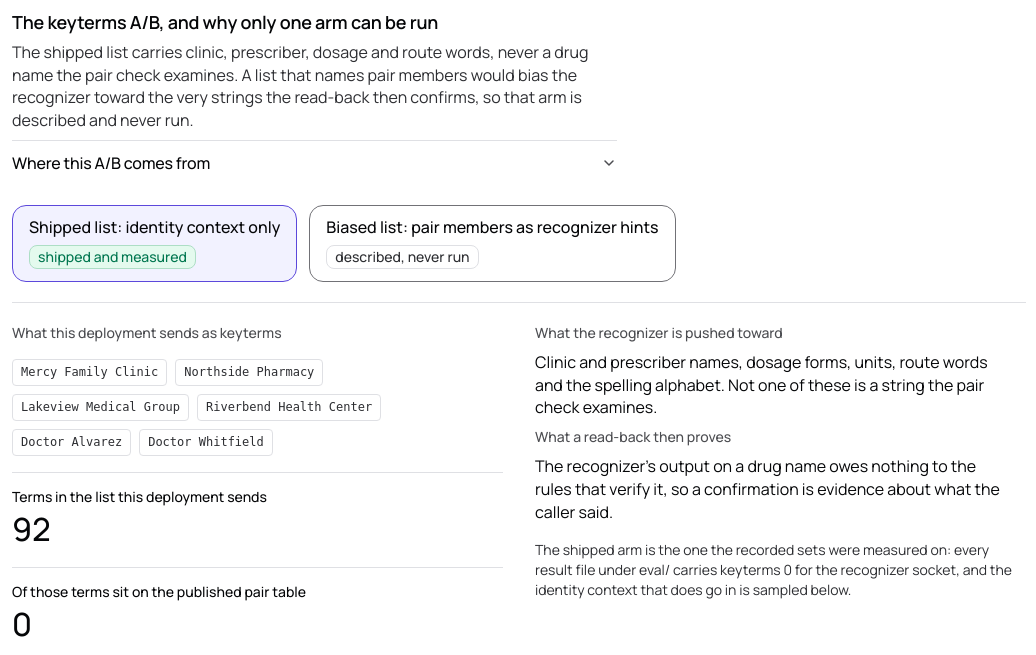
Test: what the page tells a reader › switches to the biased arm and states there it is never run
Step 1. Click the tab "Biased list" → (492, 227), box [309, 205, 676, 282]
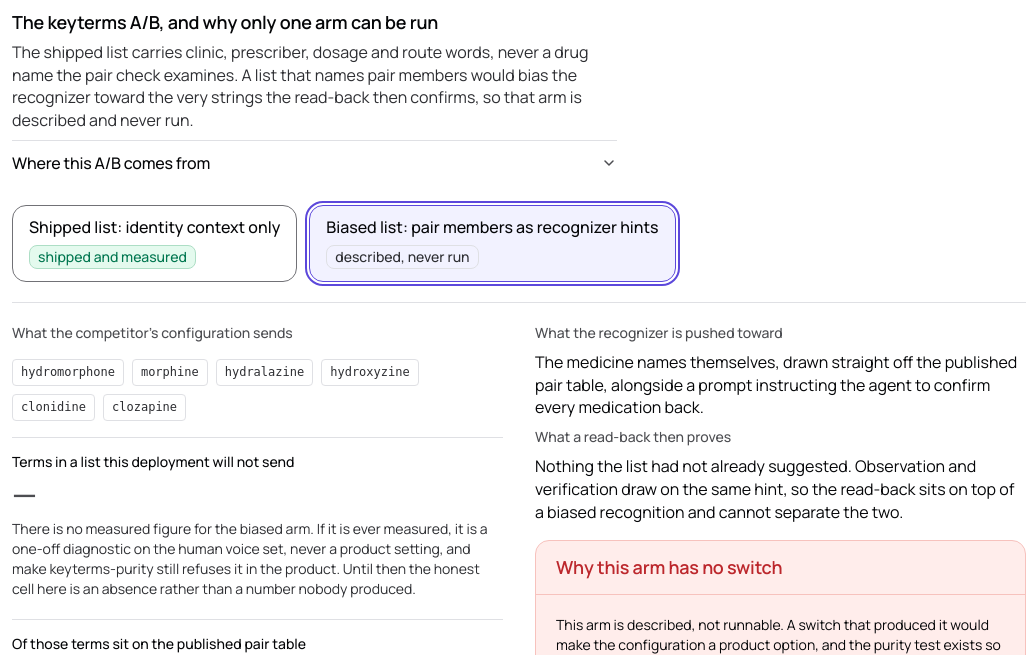
Expected: the text "described, never run" is shown, [326, 245, 479, 269]
Expected: the heading "Why this arm has no switch" is shown, [556, 557, 782, 578]
